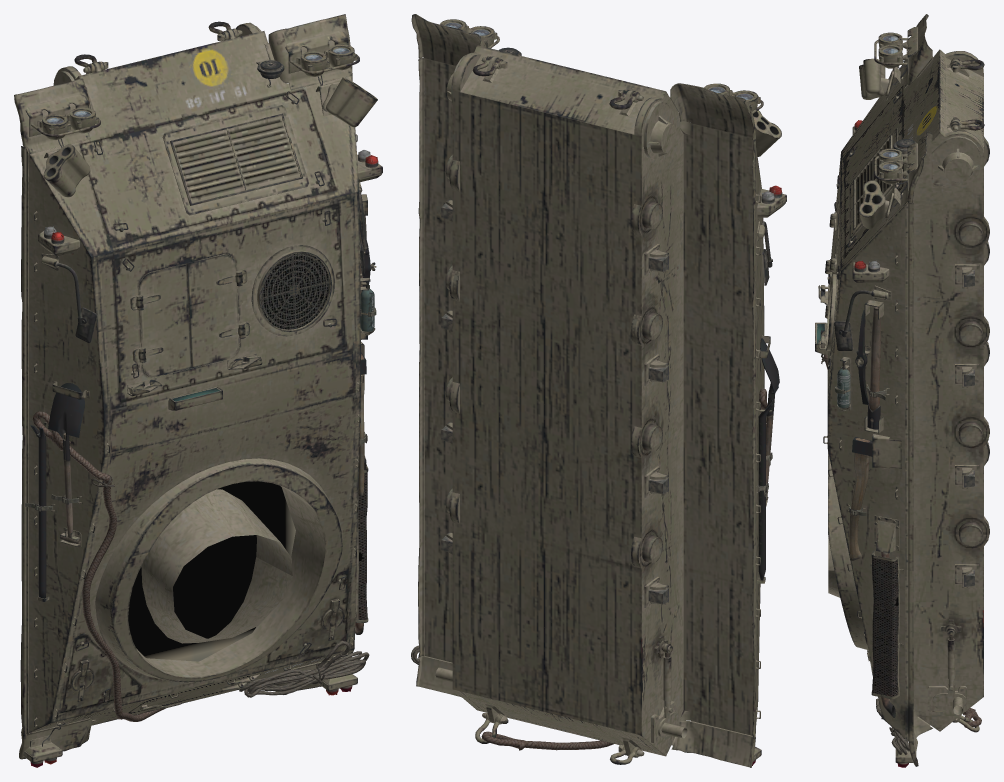
Rendered from Hull.glb.
The picture shows the model from 3 angles, left to right: view 1: azimuth 30°, elevation 25°; view 2: azimuth 150°, elevation 25°; view 3: azimuth 270°, elevation 25°; orthographic projection. The views are drawn at different scales.
Parts seen in each view (by area): view 1: set_0_group_0; view 2: set_0_group_0; view 3: set_0_group_0.
Boxes of the visible parts, box(x1,y1,x2,y2) form: set_0_group_0: box(14, 14, 382, 767); set_0_group_0: box(411, 14, 786, 767); set_0_group_0: box(815, 14, 989, 767).
Size of the model in its own units: 2.14 by 3.96 by 1.02.
Materials: 1 (1 with a texture image).
